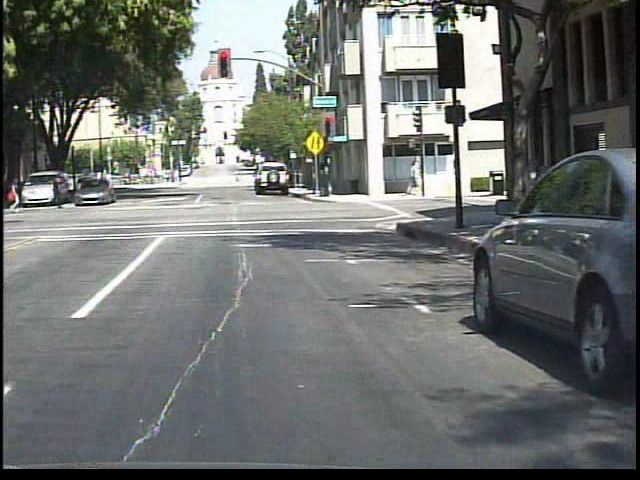person: (5, 175, 24, 215), (46, 171, 63, 212), (227, 170, 242, 187)
